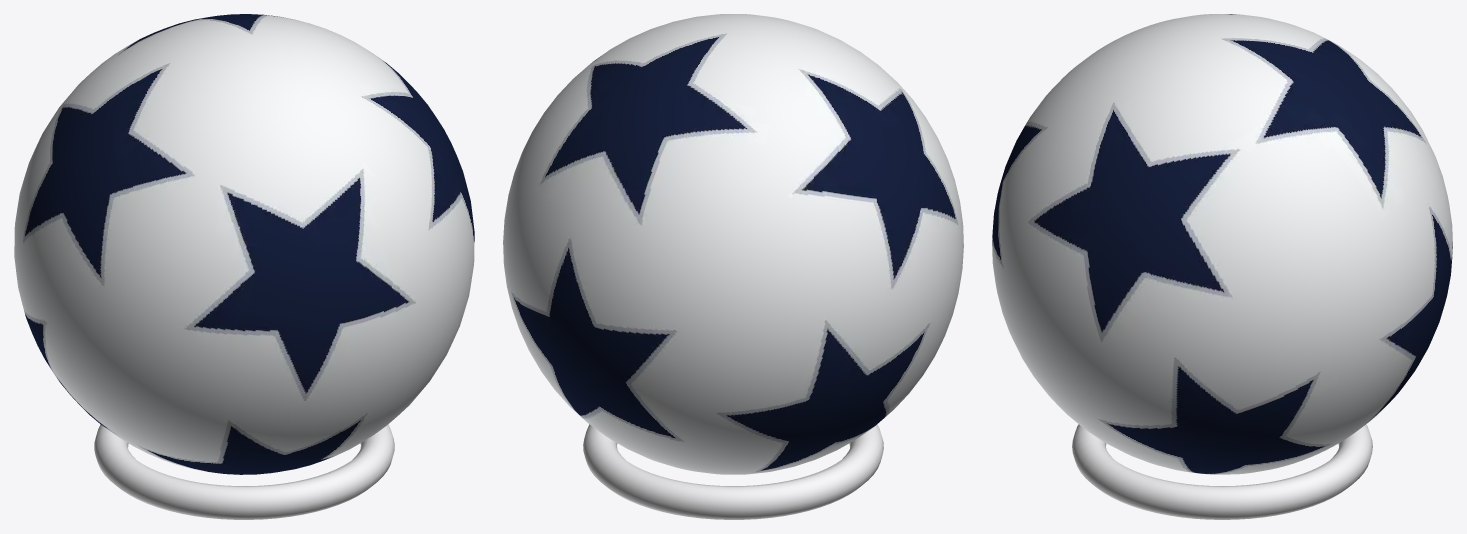
Rendered from reward-ball.glb.
The picture shows the model from 3 angles, left to right: view 1: azimuth 30°, elevation 25°; view 2: azimuth 150°, elevation 25°; view 3: azimuth 270°, elevation 25°; orthographic projection.
Visible parts, largest first — view 1: ball, cup; view 2: ball, cup; view 3: ball, cup.
Part boxes in pixels (x1,y1,x2,y2): ball: [14, 14, 474, 474]; cup: [94, 424, 394, 519]; ball: [503, 14, 963, 474]; cup: [583, 424, 883, 519]; ball: [992, 14, 1452, 474]; cup: [1072, 424, 1372, 519].
Size of the model in its own units: 1.9 by 1.94 by 1.9.
2 materials, 1 textured.
